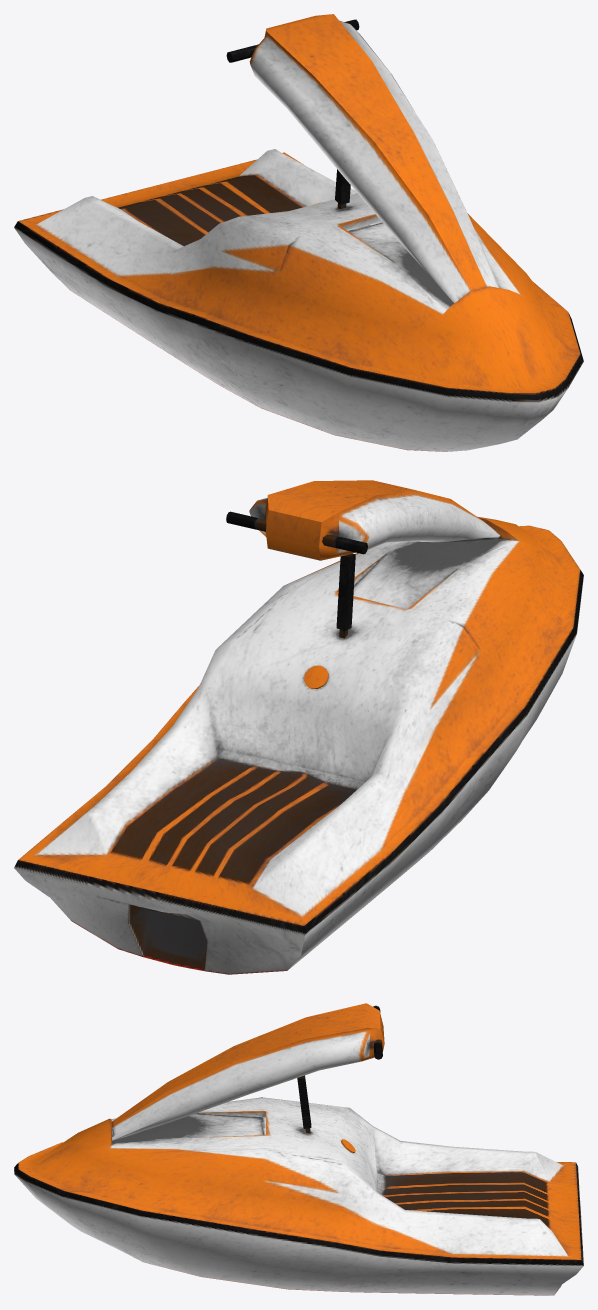
File: jetski.FBX
The picture shows the model from 3 angles, top to bottom: view 1: azimuth 30°, elevation 25°; view 2: azimuth 150°, elevation 25°; view 3: azimuth 270°, elevation 25°; orthographic projection. The views are drawn at different scales.
Parts seen in each view (by area): view 1: Object001; view 2: Object001; view 3: Object001.
Boxes of the visible parts, x1,y1,x2,y2 form: Object001: (14, 14, 583, 451); Object001: (14, 480, 583, 974); Object001: (14, 1003, 583, 1295).
Bounding box in the file's own units: 64.19 × 74.65 × 150.
